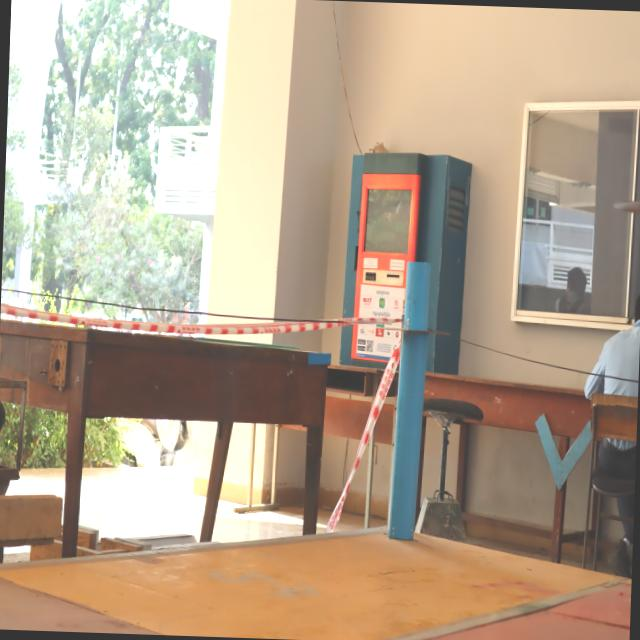pole: (375, 255, 455, 392)
